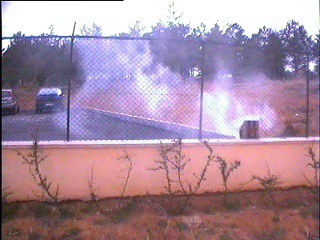smoke: (84, 38, 278, 138)
